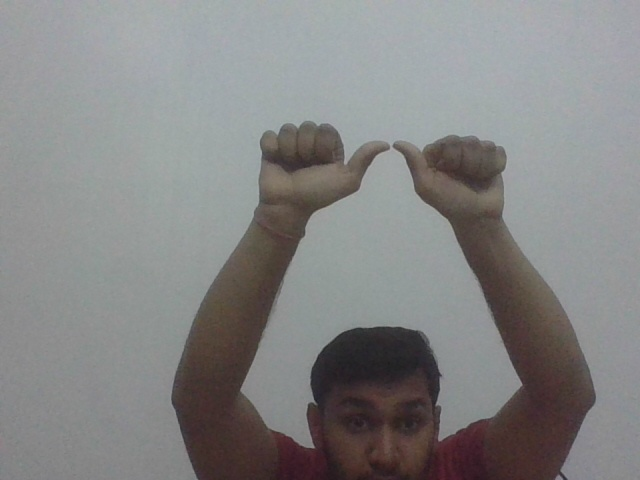A: (250, 122, 512, 220)
